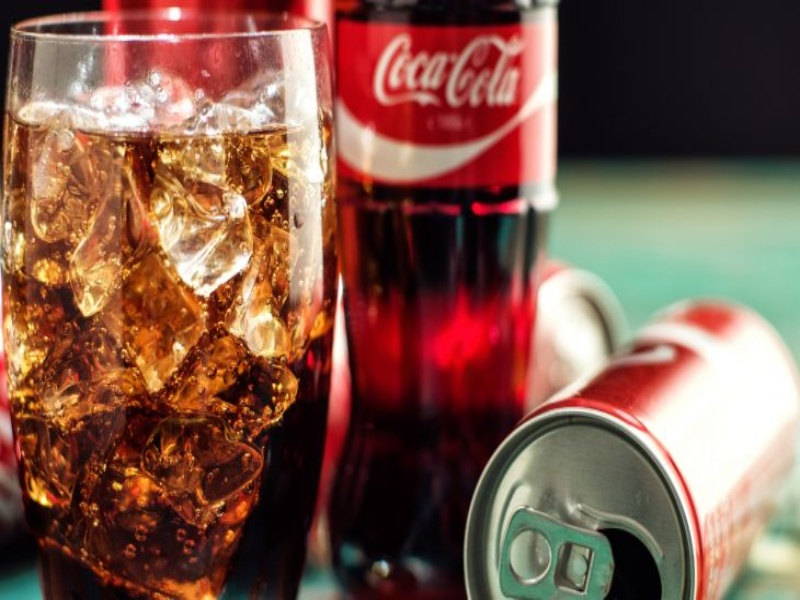Can: (446, 216, 796, 600)
Plastic bottle: (306, 1, 569, 597)
